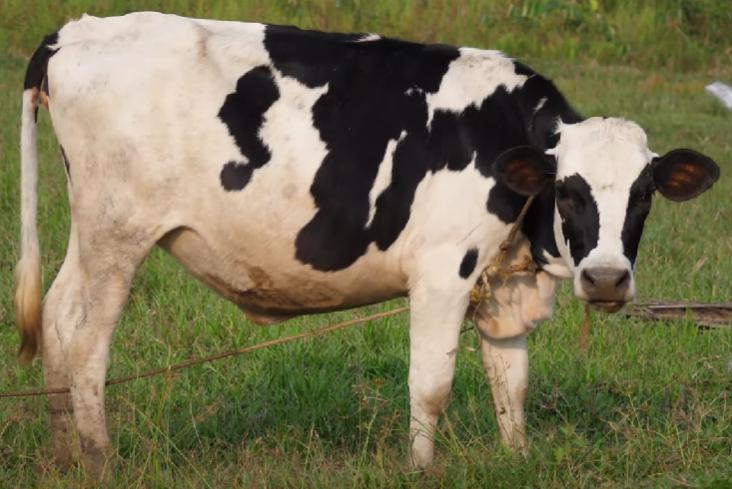cow: (19, 14, 719, 467)
